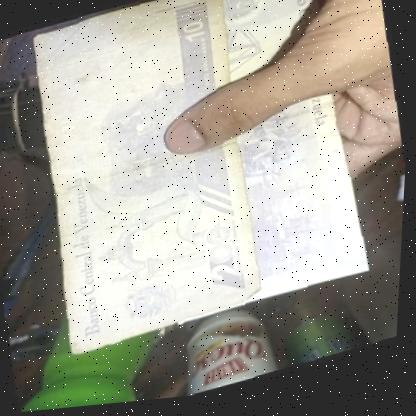ten-back-vef: (18, 0, 278, 362)
two_hundred-back-vef: (120, 0, 388, 335)
